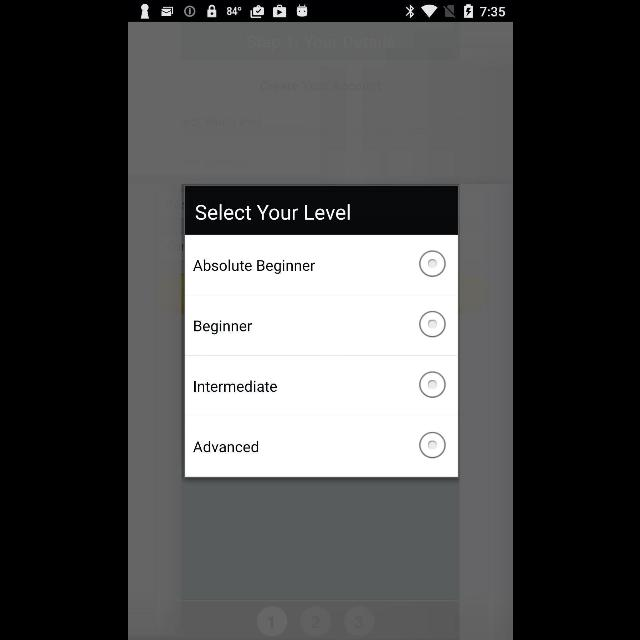checkbox: (418, 372, 446, 398), (419, 432, 445, 460), (419, 251, 445, 277), (419, 311, 445, 337)
panel: (182, 186, 458, 478)
text: (195, 204, 349, 220), (193, 260, 315, 274), (194, 380, 276, 392), (193, 320, 251, 334), (193, 441, 257, 453)
uppertaskbar: (128, 1, 512, 23)
